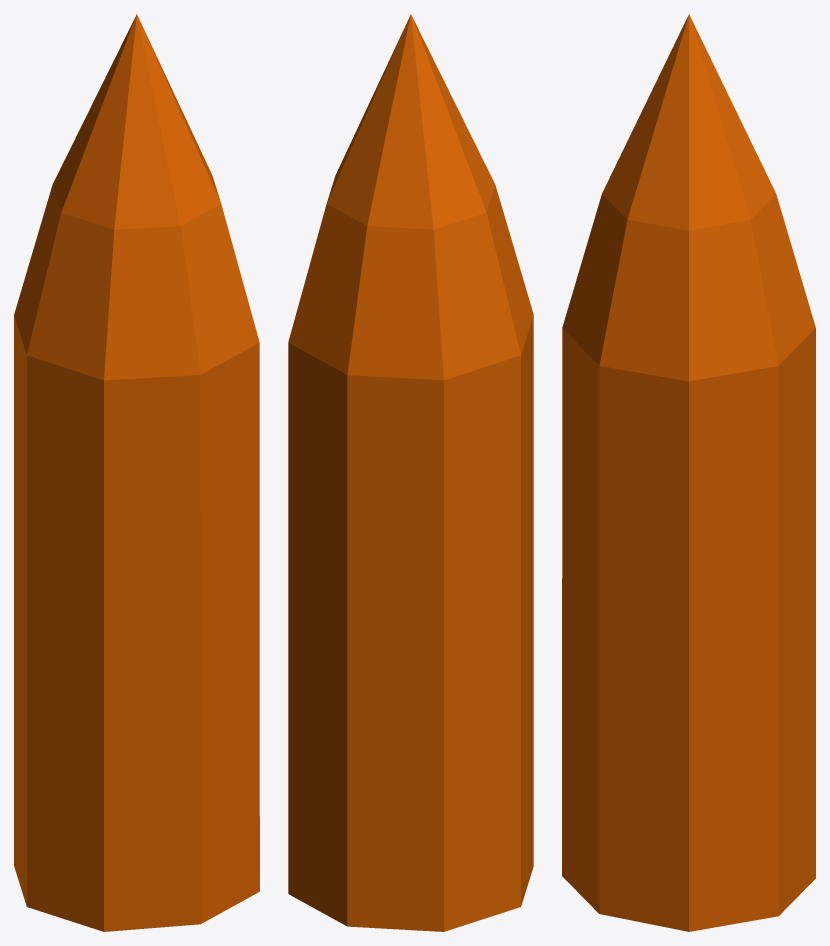
The model's file is bullet.fbx.
The picture shows the model from 3 angles, left to right: view 1: azimuth 30°, elevation 25°; view 2: azimuth 150°, elevation 25°; view 3: azimuth 270°, elevation 25°; orthographic projection.
Parts seen in each view (by area): view 1: bullet; view 2: bullet; view 3: bullet.
Boxes of the visible parts, left/top/right/bottom form: bullet: left=14, top=14, right=259, bottom=931; bullet: left=288, top=14, right=533, bottom=931; bullet: left=562, top=14, right=815, bottom=931.
Bounding box in the file's own units: 181 × 681 × 181.
